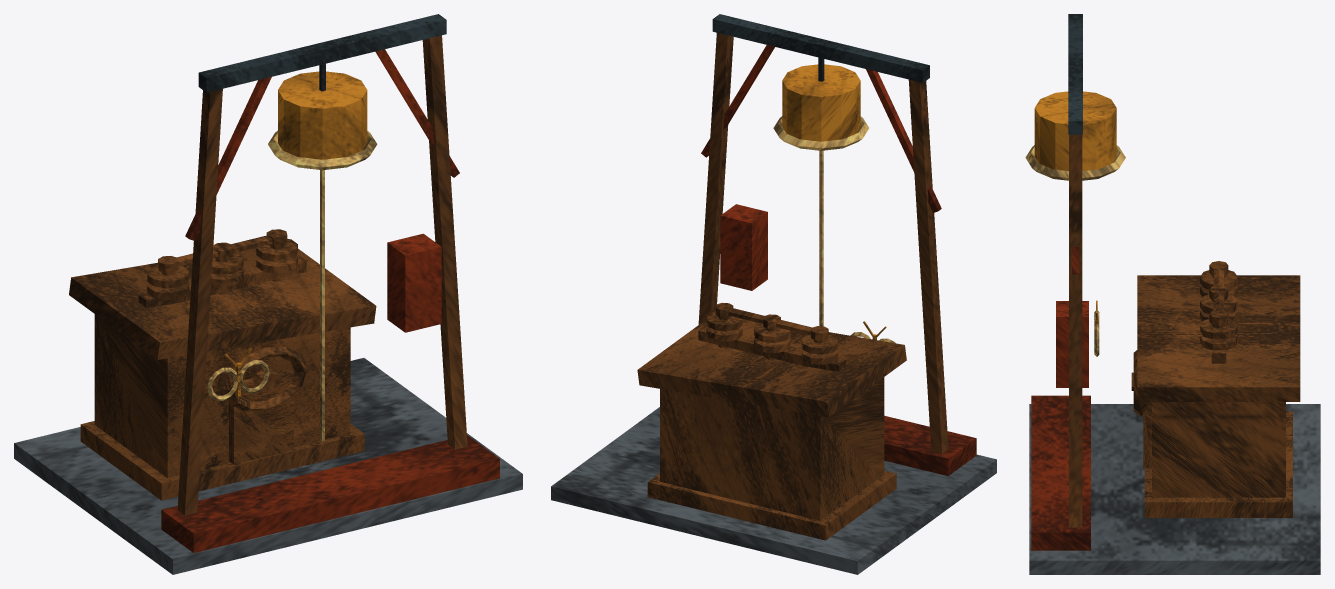
File: east-tithe-bell-house.glb
3 renders of one model, left to right at view 1: azimuth 30°, elevation 25°; view 2: azimuth 150°, elevation 25°; view 3: azimuth 270°, elevation 25°, orthographic. The views are drawn at different scales.
Parts seen in each view (by area): view 1: east-tithe-bell-house; view 2: east-tithe-bell-house; view 3: east-tithe-bell-house.
Part boxes in pixels (x1,y1,x2,y2): east-tithe-bell-house: (14, 14, 522, 574); east-tithe-bell-house: (551, 14, 996, 574); east-tithe-bell-house: (1025, 14, 1320, 574).
Bounding box in the file's own units: 5.6 × 7.15 × 4.46.
Materials: 1 (1 with a texture image).
